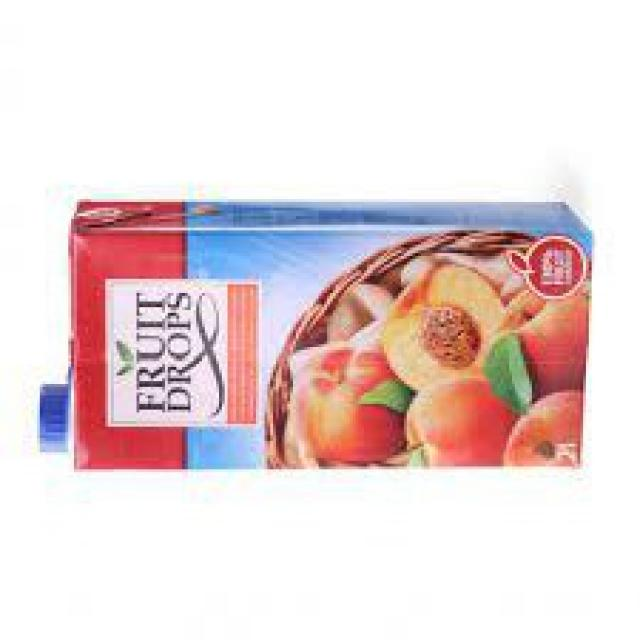non_white_jug: (25, 195, 603, 479)
